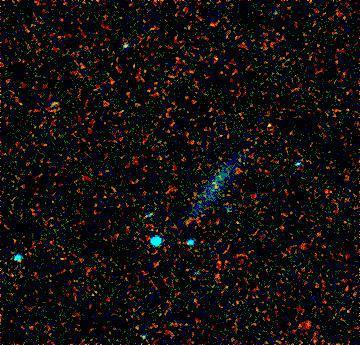star: (204, 46, 234, 76)
